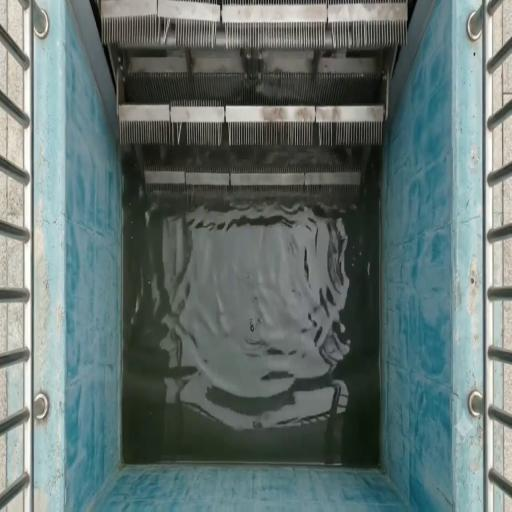rake_broken: (179, 170, 249, 216), (145, 9, 197, 66), (296, 114, 348, 162), (314, 13, 364, 61), (195, 14, 233, 61), (164, 114, 193, 156), (214, 109, 242, 152), (290, 177, 315, 214)
